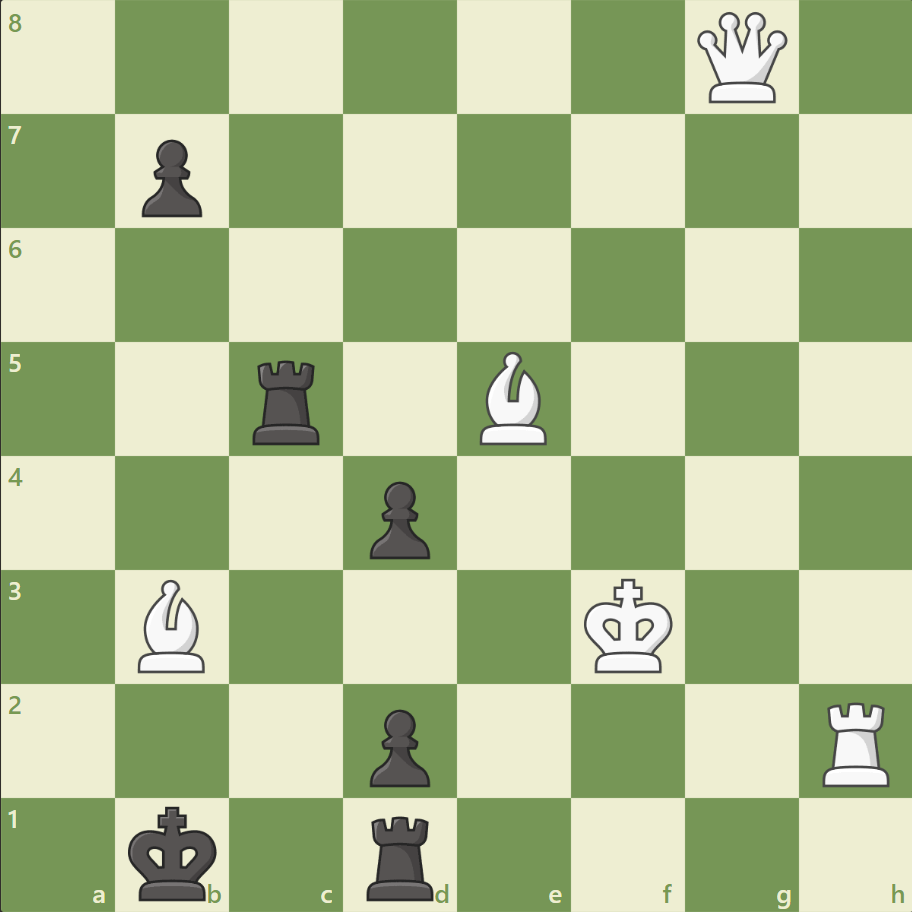B: (471, 347, 555, 449), (131, 574, 215, 676)
K: (579, 571, 679, 679)
Q: (691, 9, 790, 108)
R: (814, 693, 897, 790)
k: (124, 798, 224, 906)
p: (133, 132, 208, 223), (361, 473, 435, 564), (361, 700, 435, 791)
r: (246, 352, 329, 449), (360, 806, 442, 904)
